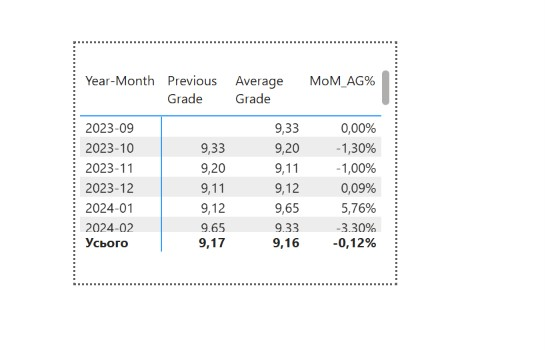

This screenshot's page, from the dashboard's own definition file:
{"tool":"powerbi","page":{"name":"MoM%_AG_Details","canvas":[320,240],"ordinal":3},"visuals":[{"type":"pivotTable","fields":{"Rows":["calendar.Year-Month"],"Values":["_Measures.Previous Grade","_Measures.Average Grade","_Measures.MoM_AG%"]},"box":[0,21,320,192],"z":0}]}

Visuals, with their boxes on the page's 320x240 design canvas (x1, y1, x2, y2). These are canvas units, not pixel positions in the 545x350 screenshot, which may show the page scaled, cropped or inside an application window:
pivotTable - calendar.Year-Month x _Measures.Previous Grade: l=0, t=21, r=320, b=213
